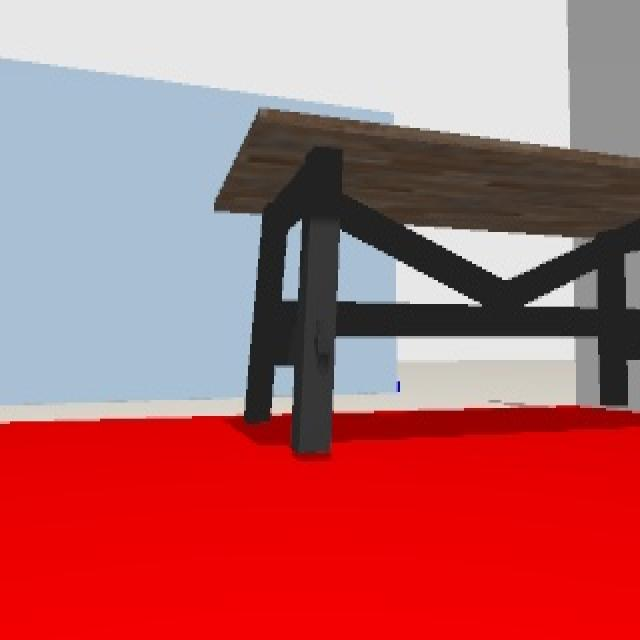dining: (216, 107, 640, 453)
